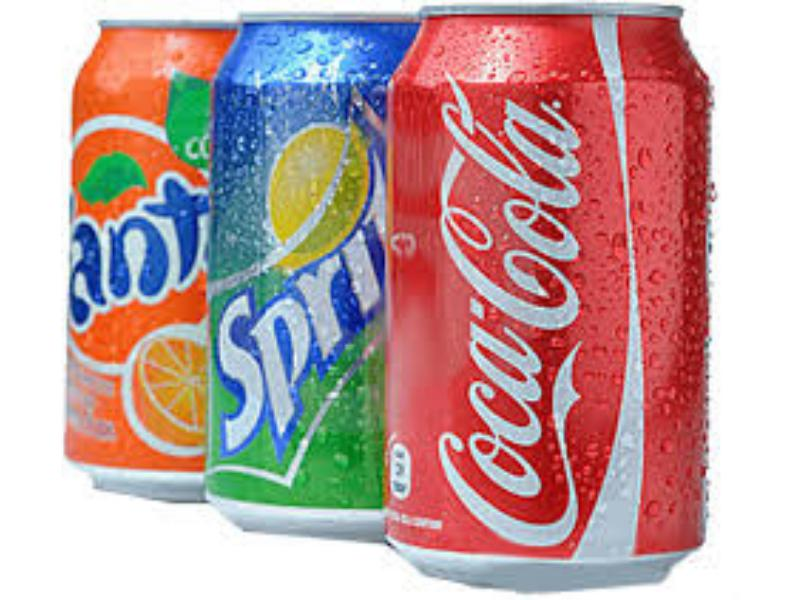can: (380, 4, 733, 579), (199, 4, 403, 538), (63, 8, 212, 510)
